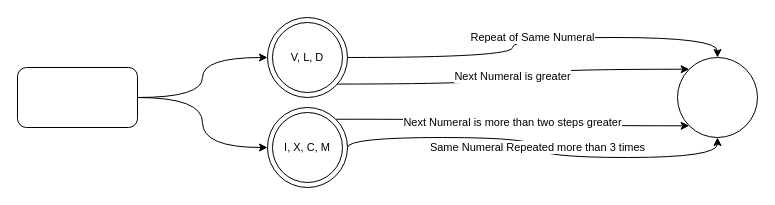
Some shapes in this 775 by 205 pixel diagram are drawn without their labels. Here are the shapes that lost their labels. From the top down, the centre of each, then its label:
(x=77, y=97): Start
(x=717, y=97): REJECT
